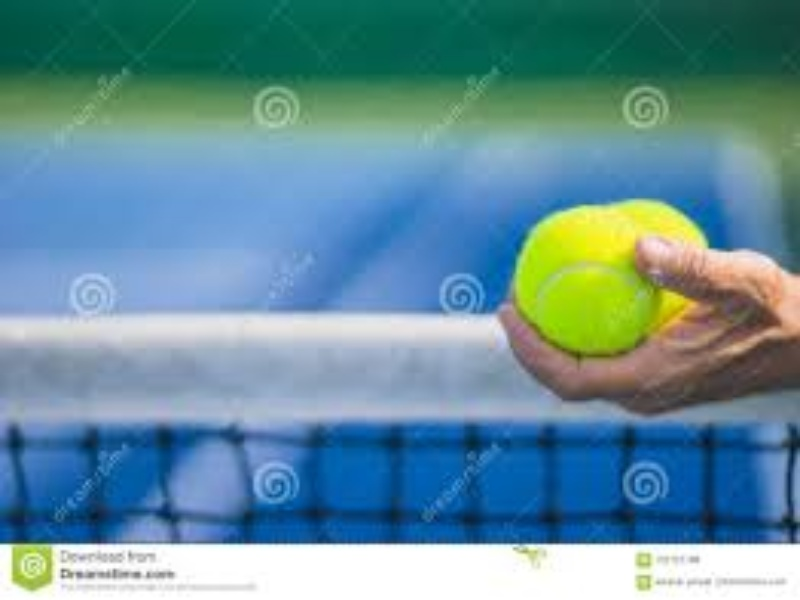tennis ball: (516, 189, 701, 374)
